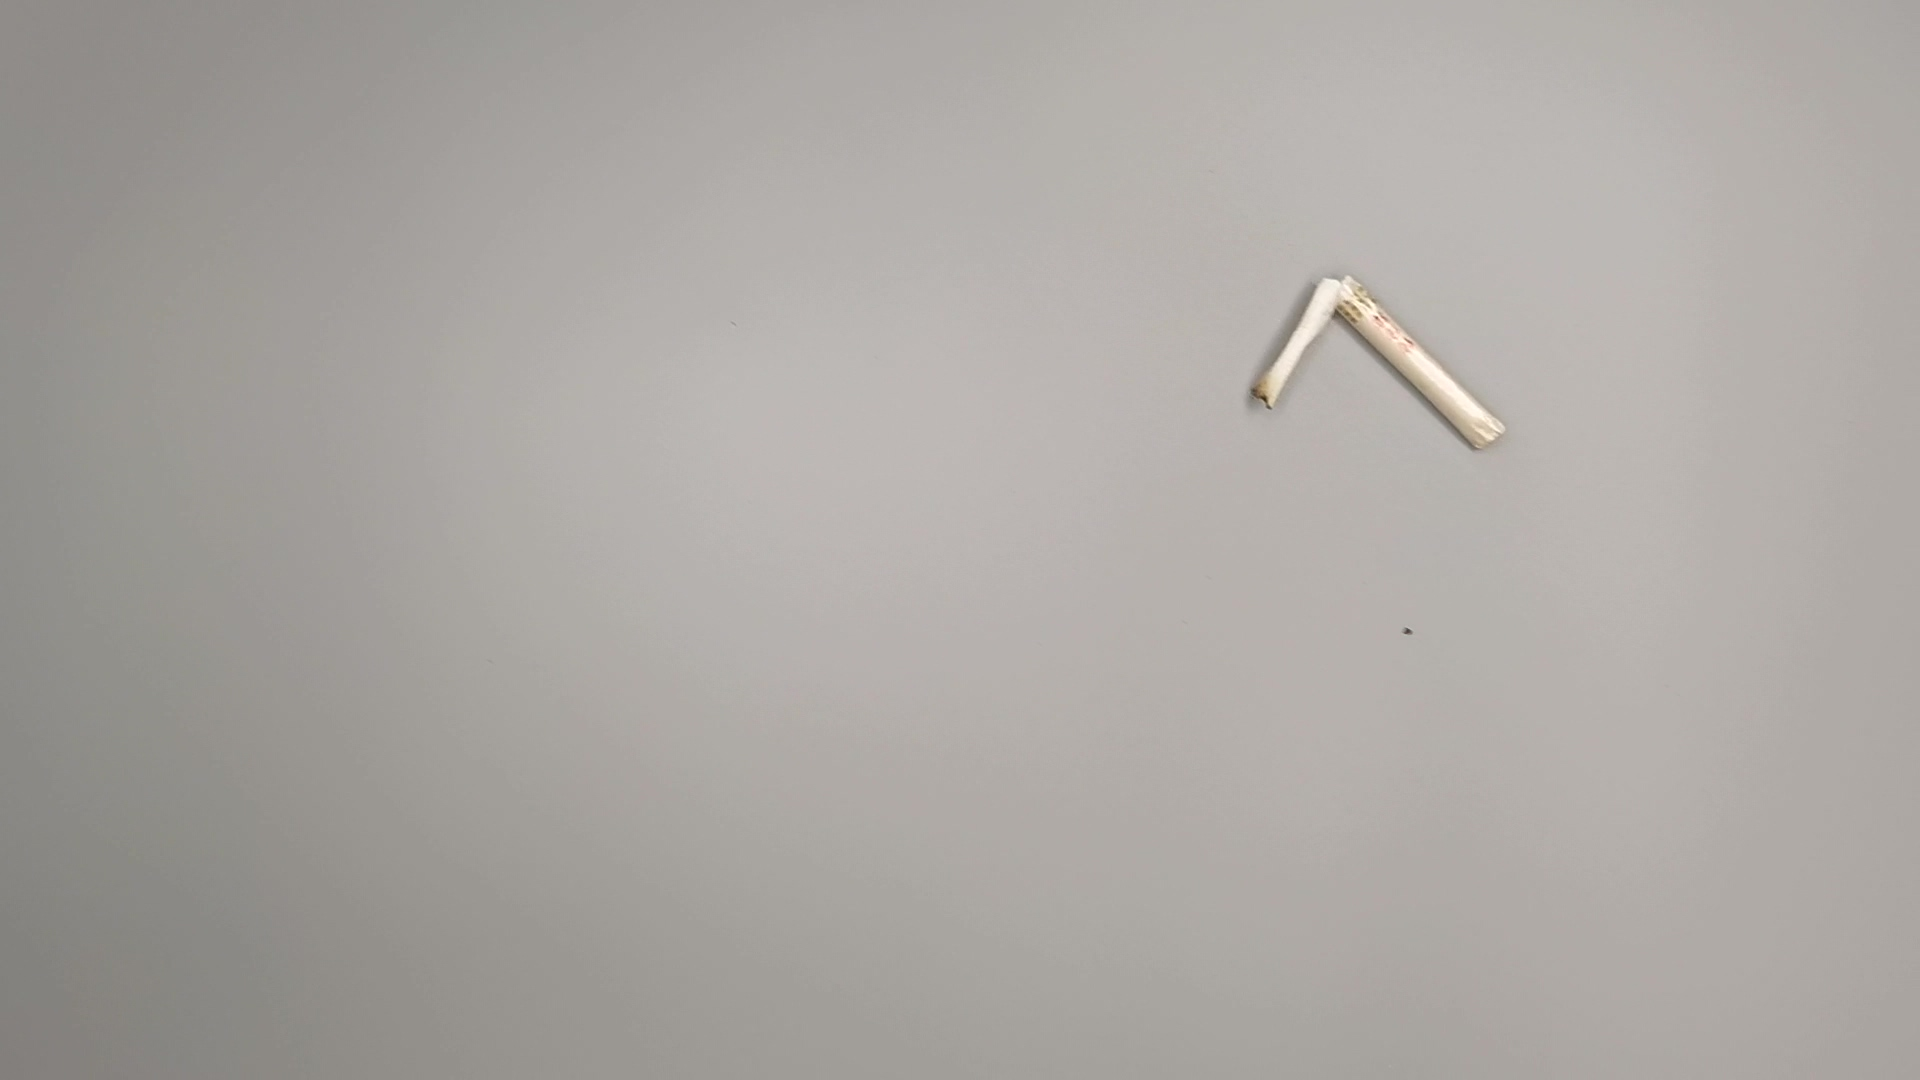cigarette: (1251, 264, 1514, 483)
